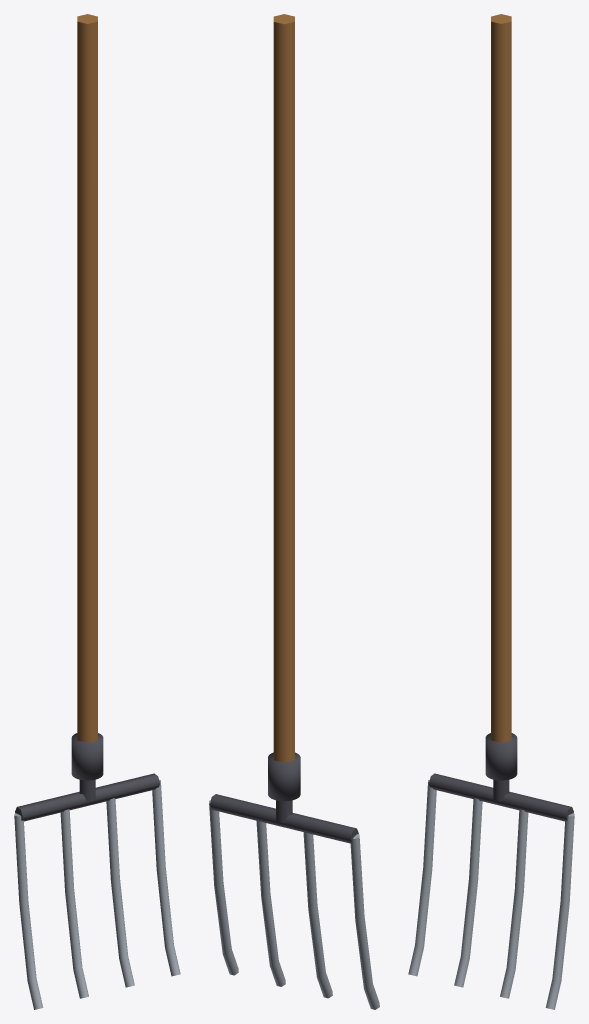
File: pitchfork.glb
The picture shows the model from 3 angles, left to right: view 1: azimuth 30°, elevation 25°; view 2: azimuth 150°, elevation 25°; view 3: azimuth 330°, elevation 25°; orthographic projection. The views are drawn at different scales.
Visible parts, largest first — view 1: pitchfork; view 2: pitchfork; view 3: pitchfork.
Boxes of the visible parts, x1,y1,x2,y2 form: pitchfork: [14, 14, 180, 1009]; pitchfork: [209, 14, 379, 1009]; pitchfork: [408, 14, 574, 1009].
Size of the model in its own units: 0.256 by 1.6 by 0.0902.
